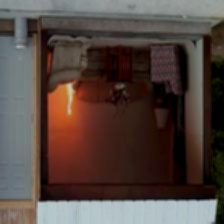fire: (59, 84, 80, 116)
